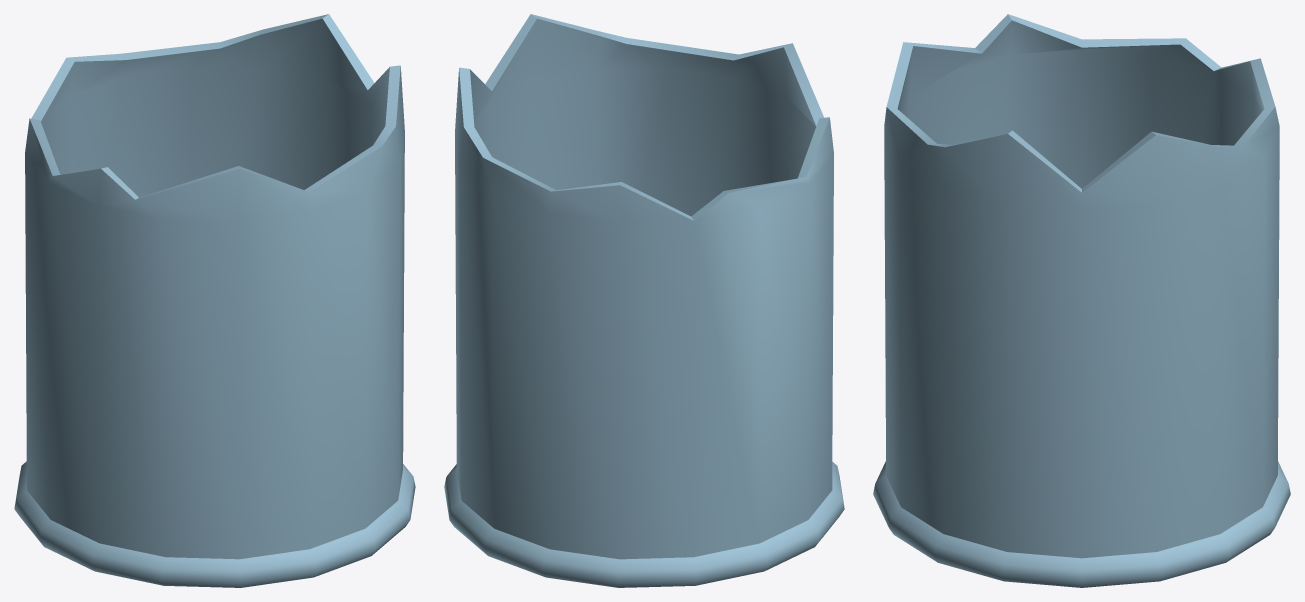
Rendered from Frasco_02.fbx.
3 views of the same model, side by side, from view 1: azimuth 30°, elevation 25°; view 2: azimuth 150°, elevation 25°; view 3: azimuth 270°, elevation 25° (orthographic). The views are drawn at different scales.
Visible parts, largest first — view 1: Frasco_02; view 2: Frasco_02; view 3: Frasco_02.
Part boxes in pixels (x1,y1,x2,y2): Frasco_02: (14,14,415,587); Frasco_02: (444,14,844,587); Frasco_02: (873,14,1290,587).
Size of the model in its own units: 25.91 by 30.7 by 25.91.
